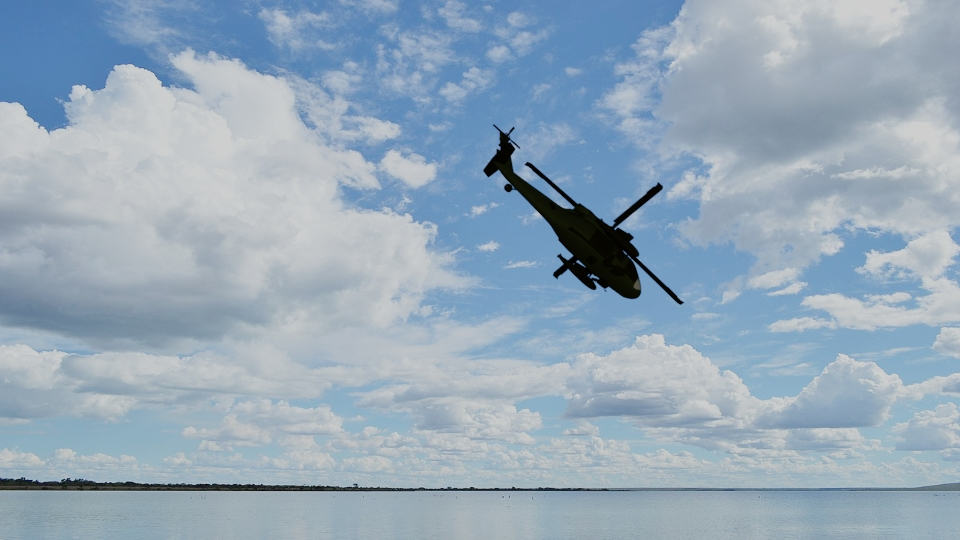heli: (481, 127, 684, 306)
